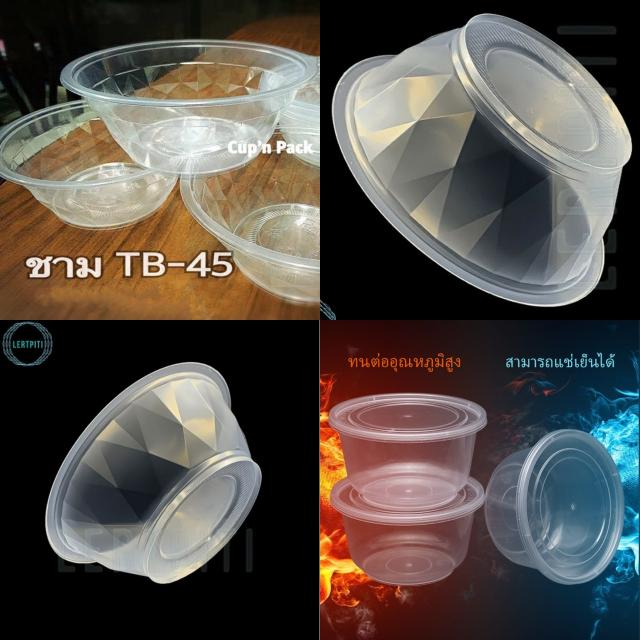Single-Use-Plastic: (332, 14, 631, 306), (46, 362, 261, 582), (61, 40, 318, 175), (180, 80, 320, 302), (0, 100, 176, 229), (485, 429, 624, 584), (329, 392, 486, 511), (330, 478, 484, 584)
